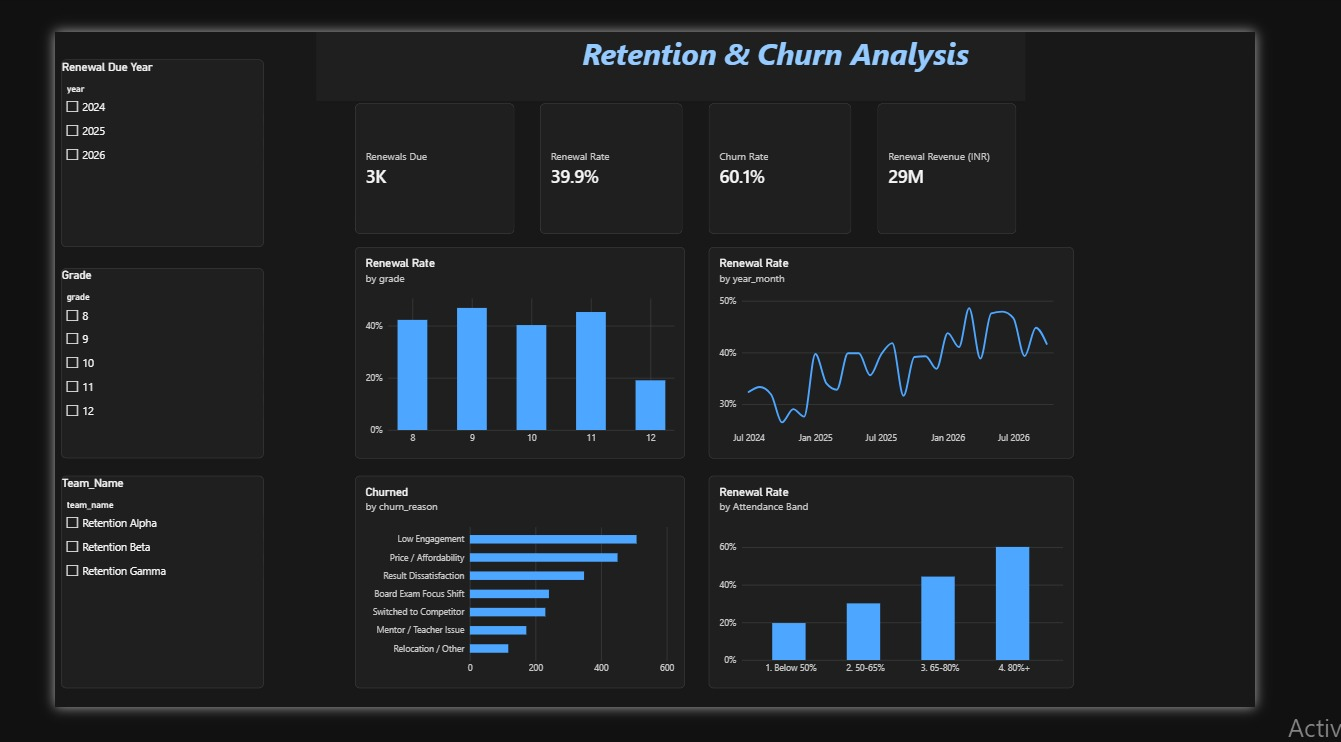

The dashboard page shown, as its layout file describes it:
{"tool":"powerbi","page":{"name":"Retention & Churn","canvas":[1920,1080],"ordinal":1},"visuals":[{"type":"slicer","title":"Renewal Due Year","fields":{"Values":["dim_date.year"]},"box":[10,44,324,300],"z":0},{"type":"slicer","title":"Grade","fields":{"Values":["dim_grade.grade"]},"box":[10,378,324,304],"z":1000},{"type":"slicer","title":"Team_Name","fields":{"Values":["dim_team.team_name"]},"box":[10,710,324,340],"z":2000},{"type":"cardVisual","fields":{"Data":["fact_renewals.Renewals Due"]},"box":[479.5,113.6,255.2,209.9],"z":3000},{"type":"cardVisual","fields":{"Data":["fact_renewals.Renewal Rate"]},"box":[776,113.6,228.5,209.9],"z":4000},{"type":"cardVisual","fields":{"Data":["fact_renewals.Churn Rate"]},"box":[1045.6,113.6,228.5,209.9],"z":5000},{"type":"cardVisual","fields":{"Data":["fact_renewals.Renewal Revenue (INR)"]},"box":[1315.2,113.6,222.3,209.9],"z":6000},{"type":"clusteredColumnChart","fields":{"Category":["dim_grade.grade"],"Y":["fact_renewals.Renewal Rate"]},"box":[480,344,528,338],"z":7000},{"type":"lineChart","fields":{"Category":["dim_date.year_month"],"Y":["fact_renewals.Renewal Rate"]},"box":[1046,344,584,338],"z":8000},{"type":"clusteredBarChart","fields":{"Category":["fact_renewals.churn_reason"],"Y":["fact_renewals.Churned"]},"box":[480,710,528,340],"z":9000},{"type":"clusteredColumnChart","fields":{"Category":["fact_renewals.Attendance Band"],"Y":["fact_renewals.Renewal Rate"]},"box":[1046,710,584,340],"z":10000},{"type":"textbox","box":[418,0,1134,110],"z":10001}]}

Visuals, with their boxes on the page's 1920x1080 design canvas (x1, y1, x2, y2). These are canvas units, not pixel positions in the 1341x742 screenshot, which may show the page scaled, cropped or inside an application window:
"Renewal Due Year" slicer: l=10, t=44, r=334, b=344
"Grade" slicer: l=10, t=378, r=334, b=682
"Team_Name" slicer: l=10, t=710, r=334, b=1050
cardVisual - fact_renewals.Renewals Due: l=480, t=114, r=735, b=324
cardVisual - fact_renewals.Renewal Rate: l=776, t=114, r=1004, b=324
cardVisual - fact_renewals.Churn Rate: l=1046, t=114, r=1274, b=324
cardVisual - fact_renewals.Renewal Revenue (INR): l=1315, t=114, r=1538, b=324
clusteredColumnChart - dim_grade.grade x fact_renewals.Renewal Rate: l=480, t=344, r=1008, b=682
lineChart - dim_date.year_month x fact_renewals.Renewal Rate: l=1046, t=344, r=1630, b=682
clusteredBarChart - fact_renewals.churn_reason x fact_renewals.Churned: l=480, t=710, r=1008, b=1050
clusteredColumnChart - fact_renewals.Attendance Band x fact_renewals.Renewal Rate: l=1046, t=710, r=1630, b=1050
textbox: l=418, t=0, r=1552, b=110
